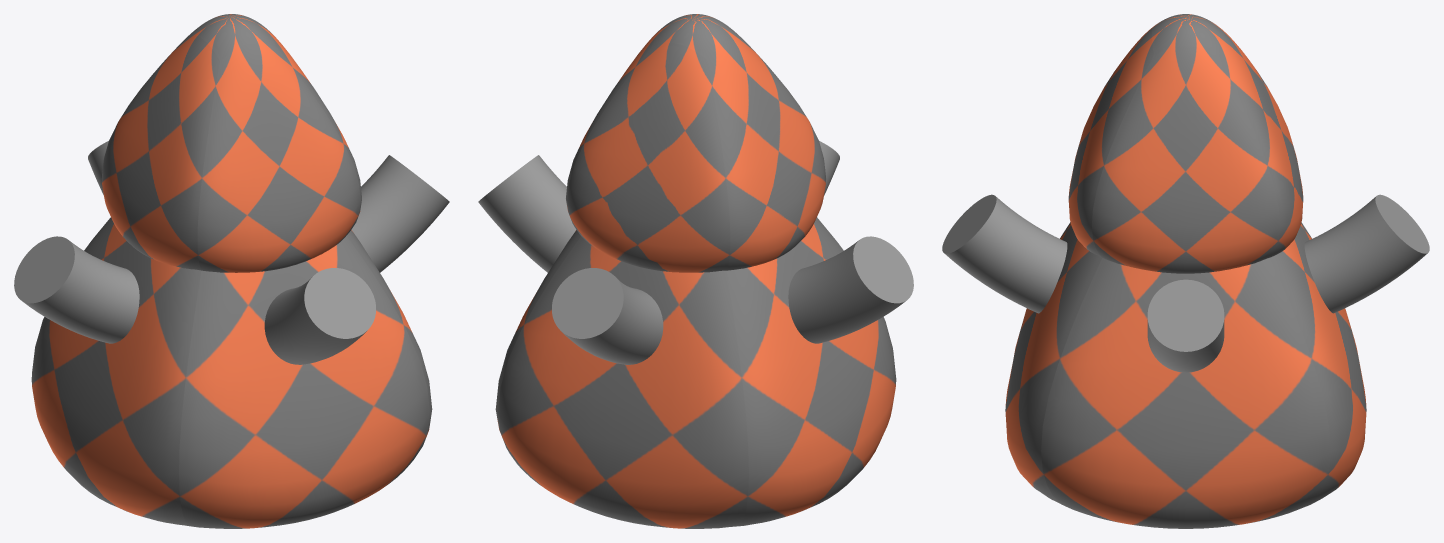
Rendered from Body(Pyramidal)+Colour(More_Orange)+Pattern(Diamond)+Arm_Angle(Bent_Up)+Hat(Pyramidal).fbx.
The picture shows the model from 3 angles, left to right: view 1: azimuth 30°, elevation 25°; view 2: azimuth 150°, elevation 25°; view 3: azimuth 270°, elevation 25°; orthographic projection.
Parts seen in each view (by area): view 1: Body(Pyramidal)+Colour(More_Orange)+Pattern(Diamond)+Arm_Ang (×5); view 2: Body(Pyramidal)+Colour(More_Orange)+Pattern(Diamond)+Arm_Ang (×5); view 3: Body(Pyramidal)+Colour(More_Orange)+Pattern(Diamond)+Arm_Ang (×5).
Part boxes in pixels (x1=…): Body(Pyramidal)+Colour(More_Orange)+Pattern(Diamond)+Arm_Ang (×5): x1=14, y1=14, x2=449, y2=528; Body(Pyramidal)+Colour(More_Orange)+Pattern(Diamond)+Arm_Ang (×5): x1=478, y1=14, x2=913, y2=528; Body(Pyramidal)+Colour(More_Orange)+Pattern(Diamond)+Arm_Ang (×5): x1=942, y1=14, x2=1429, y2=528.
Size of the model in its own units: 50.67 by 53 by 50.67.
Materials: 2 (1 with a texture image).
